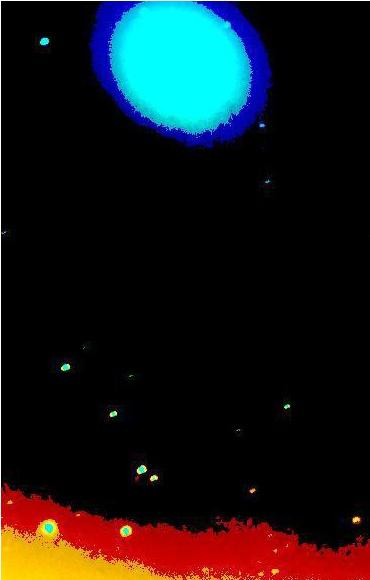star: (122, 463, 152, 493)
